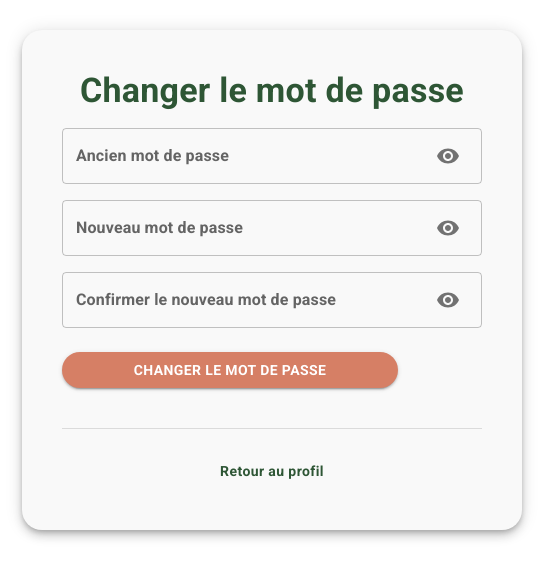
Test: ChangePasswordPage › shows error if passwords do not match
This screenshot has width=545, height=568.
Type "Strong@123" into the password field labelled "Nouveau mot de passe" at [241, 228], box [62,200,420,256]
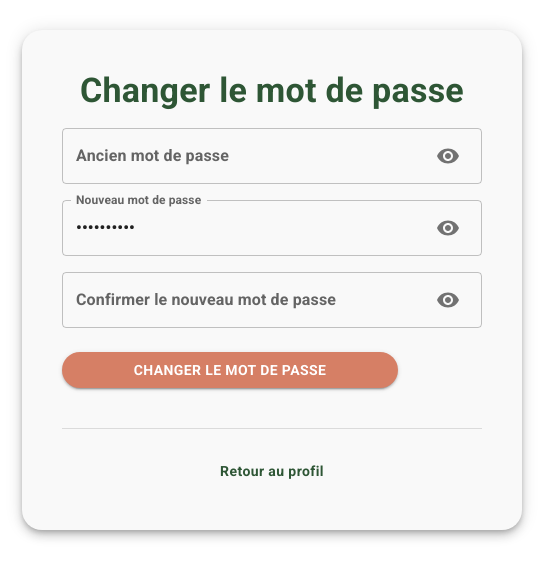
Type "Mismatch@123" into the password field labelled "Confirmer le nouveau mot de passe" at [241, 300], box [62,272,420,328]
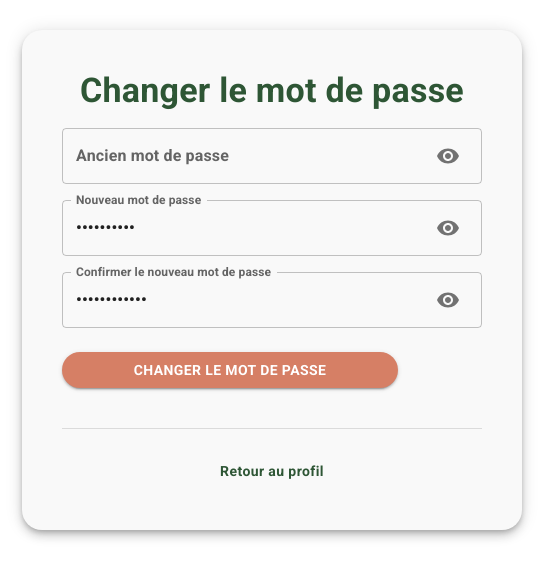
Click the button "Changer le mot de passe" at [230, 370], box [62,352,398,388]
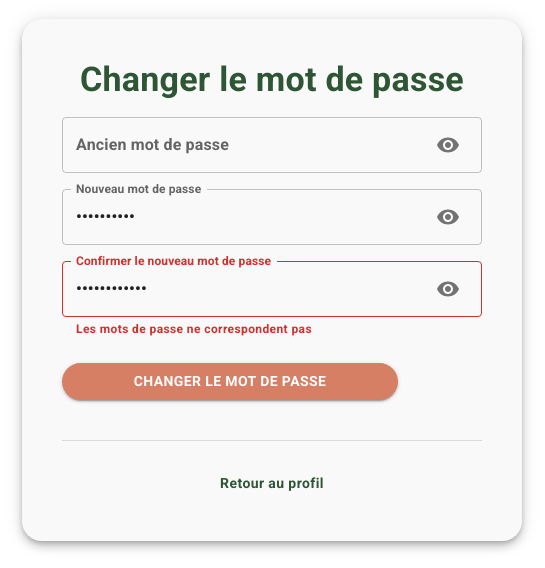
Check: the text "Les mots de passe ne correspondent pas" is shown, box [76,322,312,336]
